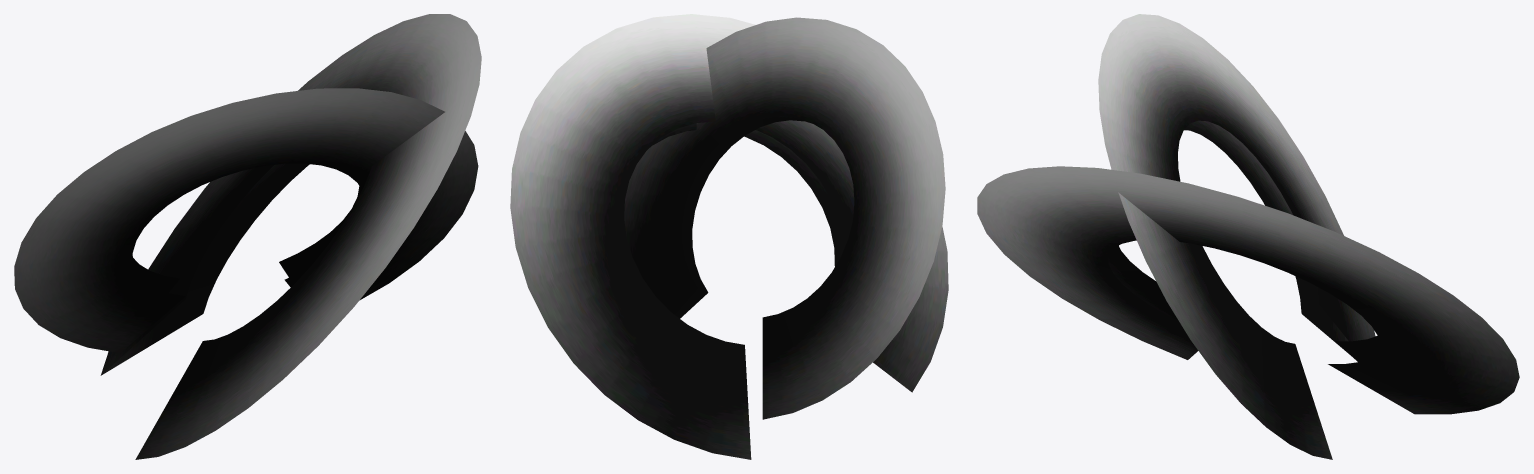
The model's file is vfx_kurp_0988.dae.
3 renders of one model, left to right at view 1: azimuth 30°, elevation 25°; view 2: azimuth 150°, elevation 25°; view 3: azimuth 270°, elevation 25°, orthographic. The views are drawn at different scales.
Parts seen in each view (by area): view 1: vfx_kurp_0988; view 2: vfx_kurp_0988; view 3: vfx_kurp_0988.
Boxes of the visible parts, box(x1,y1,x2,y2) form: vfx_kurp_0988: box(14, 14, 481, 459); vfx_kurp_0988: box(510, 14, 948, 459); vfx_kurp_0988: box(977, 14, 1519, 459).
Bounding box in the file's own units: 7.95 × 8.38 × 6.71.
1 material, 1 textured.
